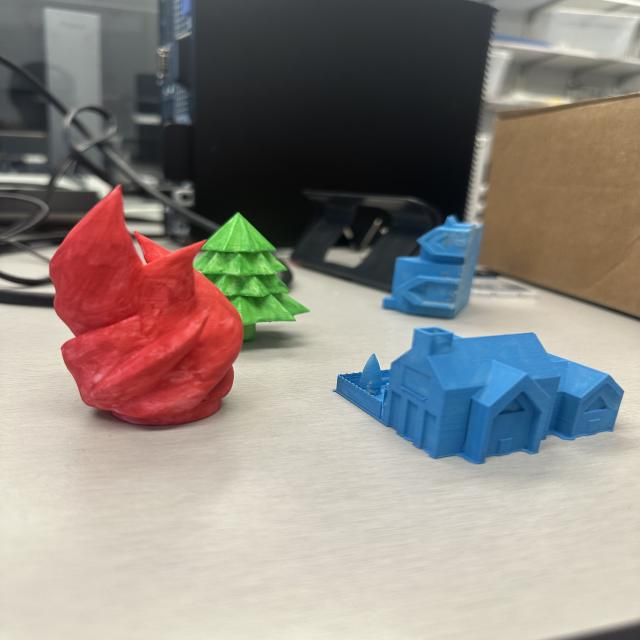fire: (45, 182, 246, 428)
house: (331, 323, 624, 465), (381, 216, 482, 323)
tree: (190, 209, 310, 343)
